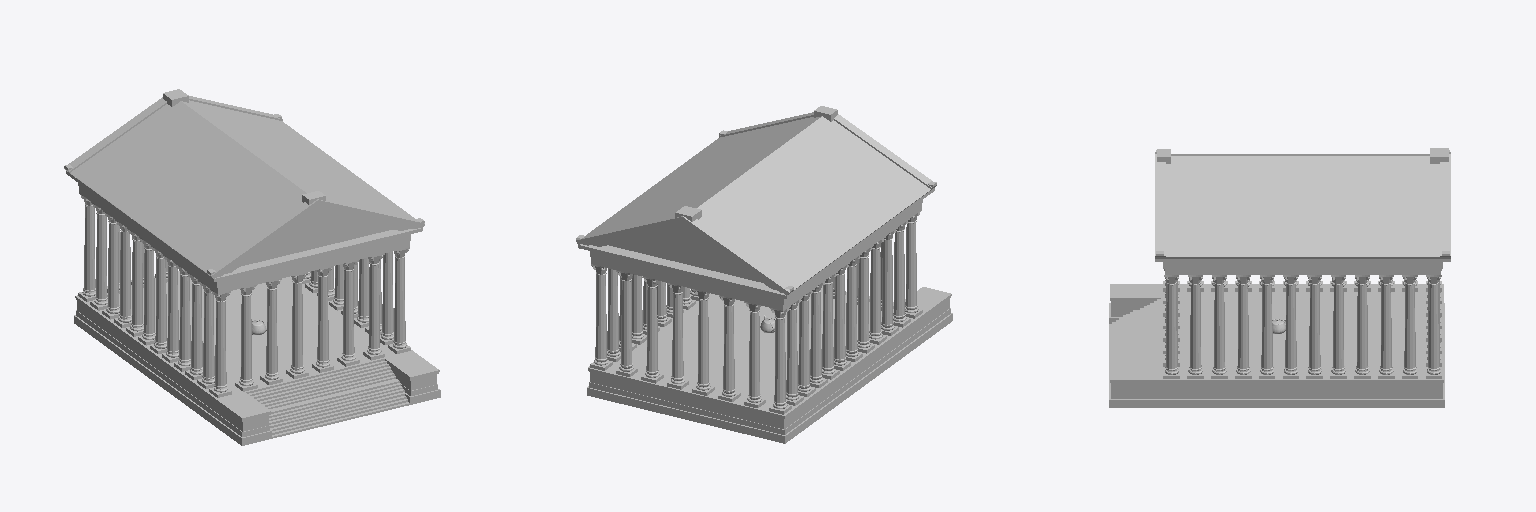
Rendered from teapotstadium.obj.
The picture shows the model from 3 angles: view 1: azimuth 30°, elevation 25°; view 2: azimuth 150°, elevation 25°; view 3: azimuth 270°, elevation 25°; orthographic projection.
Visible parts, largest first — view 1: 3d-model; view 2: 3d-model; view 3: 3d-model.
Part boxes in pixels (x1,y1,x2,y2): 3d-model: (64, 89, 440, 445); 3d-model: (576, 106, 952, 443); 3d-model: (1109, 148, 1450, 407).
Bounding box in the file's own units: 3.59 × 3.31 × 4.97.